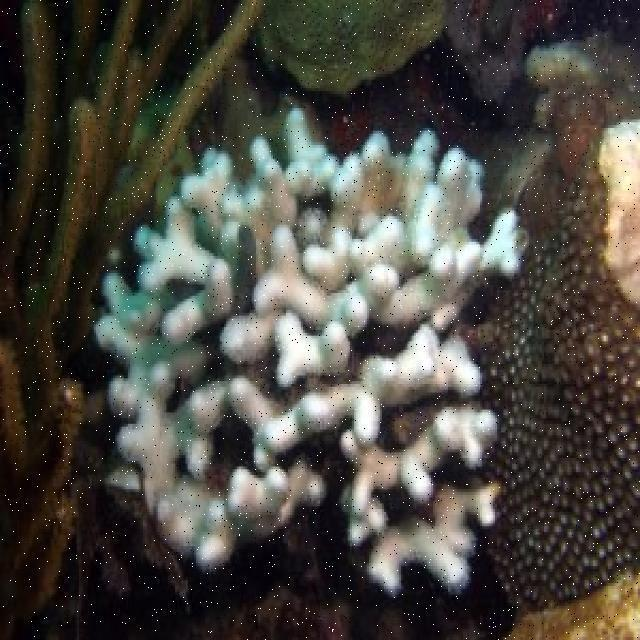Bleached: (121, 145, 477, 564), (597, 127, 640, 281)
Healthy: (1, 4, 116, 624), (128, 2, 545, 114), (499, 309, 640, 571)
